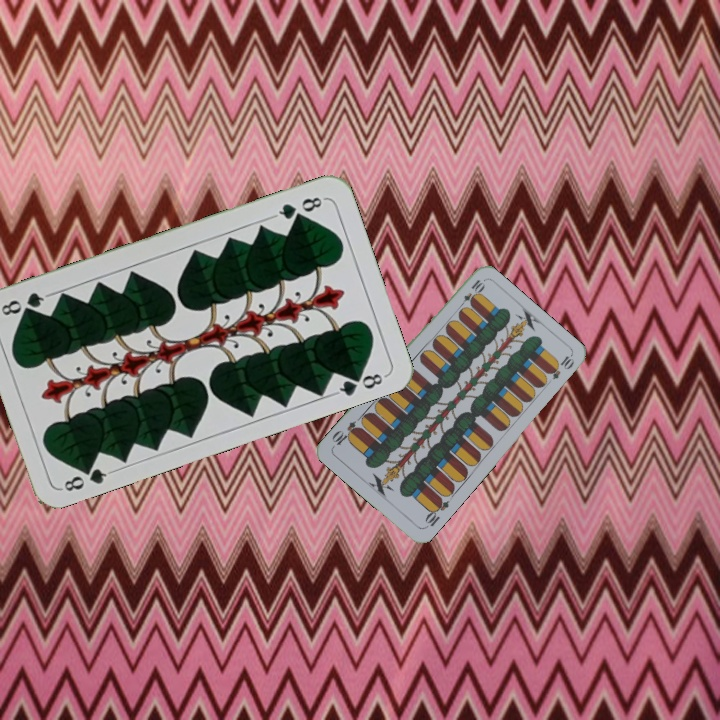E10: (421, 493, 452, 531), (455, 275, 486, 312)
G8: (58, 459, 115, 494), (270, 193, 328, 223)
